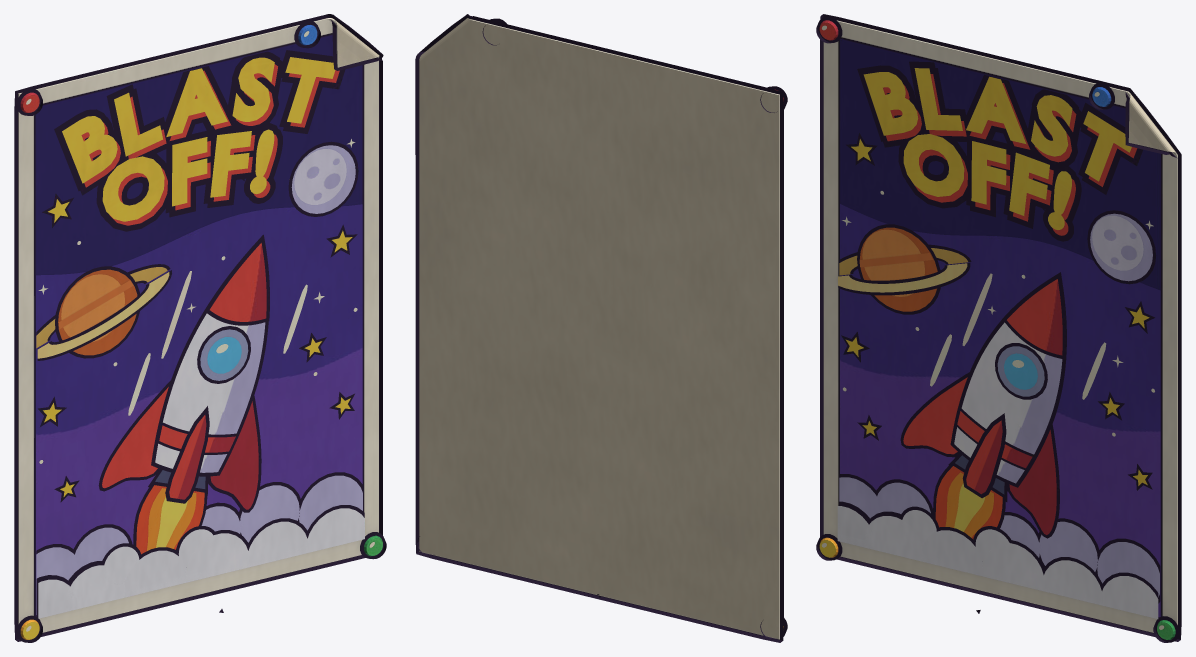
The model's file is PosterRocket.glb.
The picture shows the model from 3 angles, left to right: view 1: azimuth 30°, elevation 25°; view 2: azimuth 150°, elevation 25°; view 3: azimuth 330°, elevation 25°; orthographic projection.
Parts seen in each view (by area): view 1: PosterRocket, PosterRocket_Outline; view 2: PosterRocket, PosterRocket_Outline; view 3: PosterRocket, PosterRocket_Outline.
Part boxes in pixels (<box>): PosterRocket: <box>18,18,382,639</box>; PosterRocket_Outline: <box>14,14,386,642</box>; PosterRocket: <box>419,18,783,639</box>; PosterRocket_Outline: <box>415,14,787,642</box>; PosterRocket: <box>819,20,1177,639</box>; PosterRocket_Outline: <box>816,14,1181,642</box>.
Bounding box in the file's own units: 9.2 × 13.21 × 1.12.
Materials: 2 (2 with a texture image).
